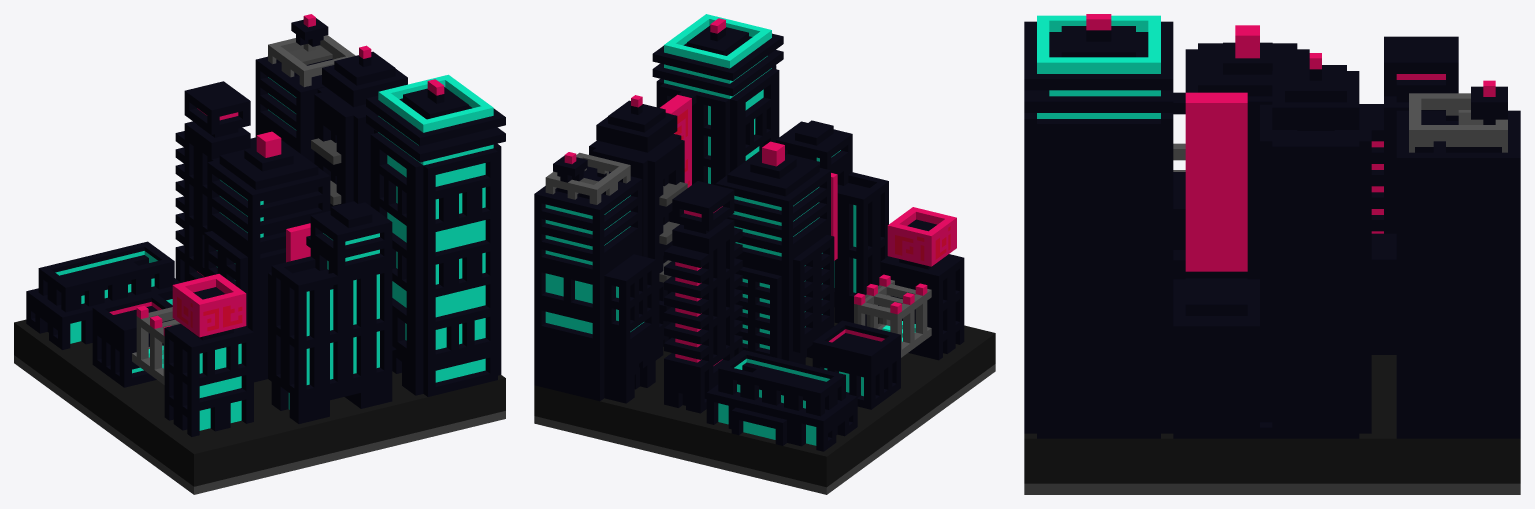
The model's file is cityscape2.obj.
3 views of the same model, side by side, from view 1: azimuth 30°, elevation 25°; view 2: azimuth 150°, elevation 25°; view 3: azimuth 270°, elevation 25° (orthographic). The views are drawn at different scales.
Visible parts, largest first — view 1: cityscape1; view 2: cityscape1; view 3: cityscape1.
Part boxes in pixels (<box>): cityscape1: <box>14,14,505,494</box>; cityscape1: <box>534,14,995,494</box>; cityscape1: <box>1024,14,1520,494</box>.
Size of the model in its own units: 80 by 80 by 80.
Materials: 1 (1 with a texture image).
